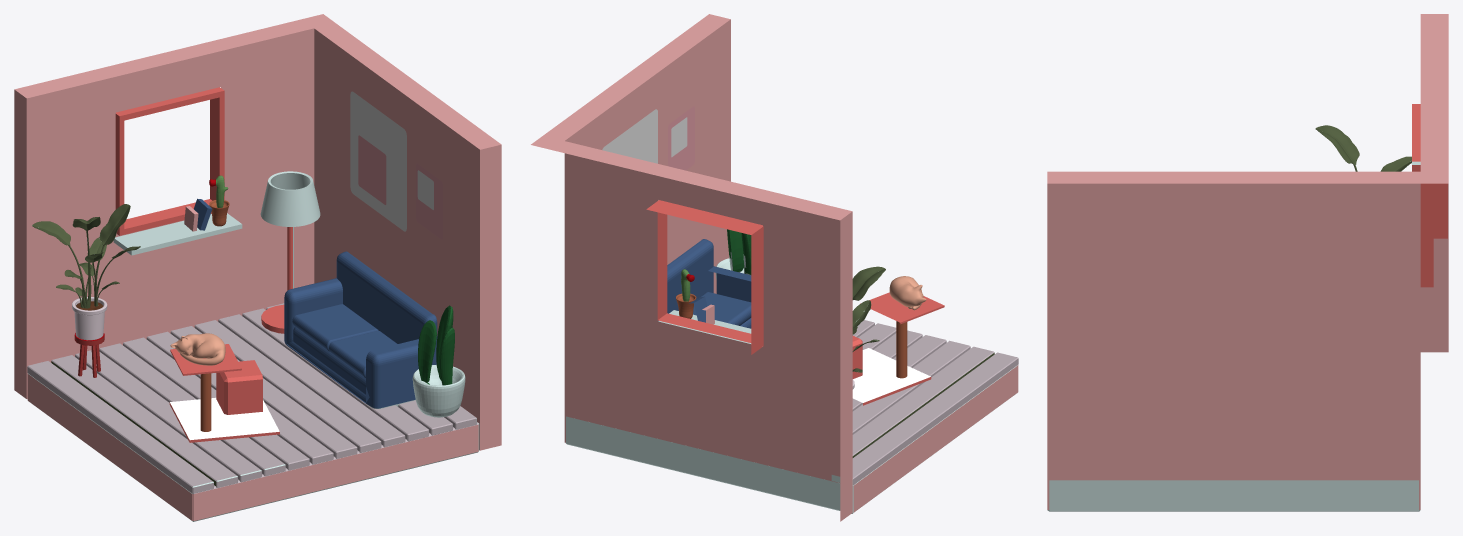
Rendered from roomv2.glb.
3 renders of one model, left to right at view 1: azimuth 30°, elevation 25°; view 2: azimuth 150°, elevation 25°; view 3: azimuth 270°, elevation 25°, orthographic. The views are drawn at different scales.
Visible parts, largest first — view 1: Room_Renzo, Cube; view 2: Room_Renzo, Cube; view 3: Room_Renzo.
Boxes of the visible parts, left/top/right/bottom form: Room_Renzo: left=14, top=14, right=501, bottom=521; Cube: left=170, top=333, right=225, bottom=365; Room_Renzo: left=531, top=14, right=1018, bottom=521; Cube: left=889, top=276, right=926, bottom=310; Room_Renzo: left=1047, top=14, right=1448, bottom=511.
Size of the model in its own units: 56.71 by 53.13 by 56.73.
